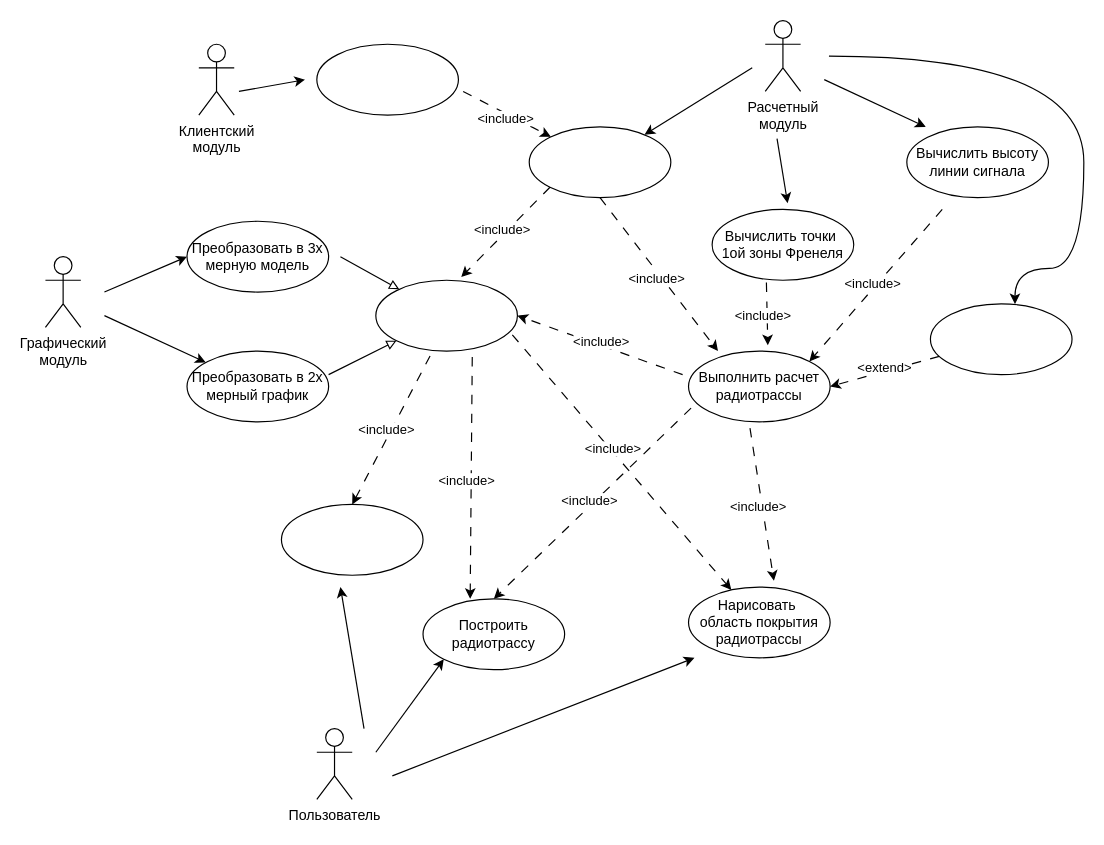
Some shapes in this 1104 by 845 pixel diagram are drawn without their labels. Here are the shapes that lost their labels. From the top down, the centre of each, then its label:
At pixel 387 79: "Получить тайлы".
At pixel 599 162: "Получить значения высот".
At pixel 446 315: "Отобразить даннные".
At pixel 1000 339: "Определить тип радиотрассы".
At pixel 351 539: "Выполнить 3D визуализацию".
